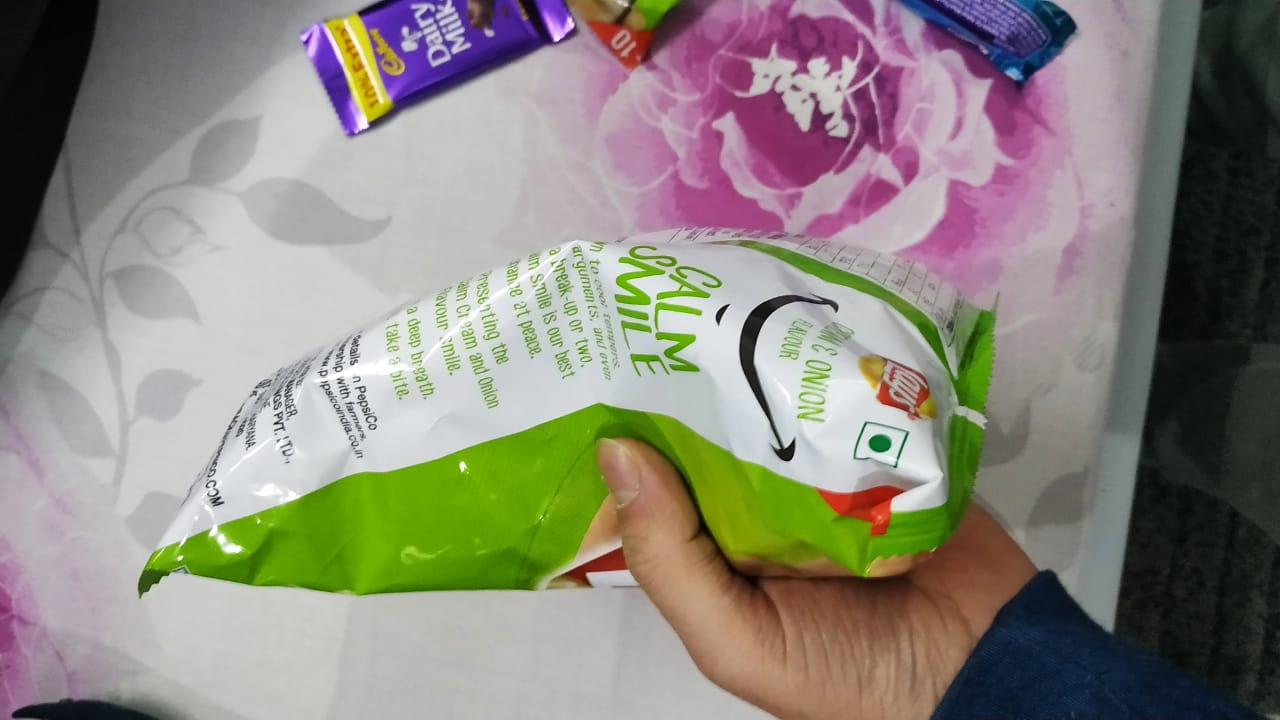dairy milk: (267, 1, 585, 145)
lays chips: (129, 221, 1025, 609)
